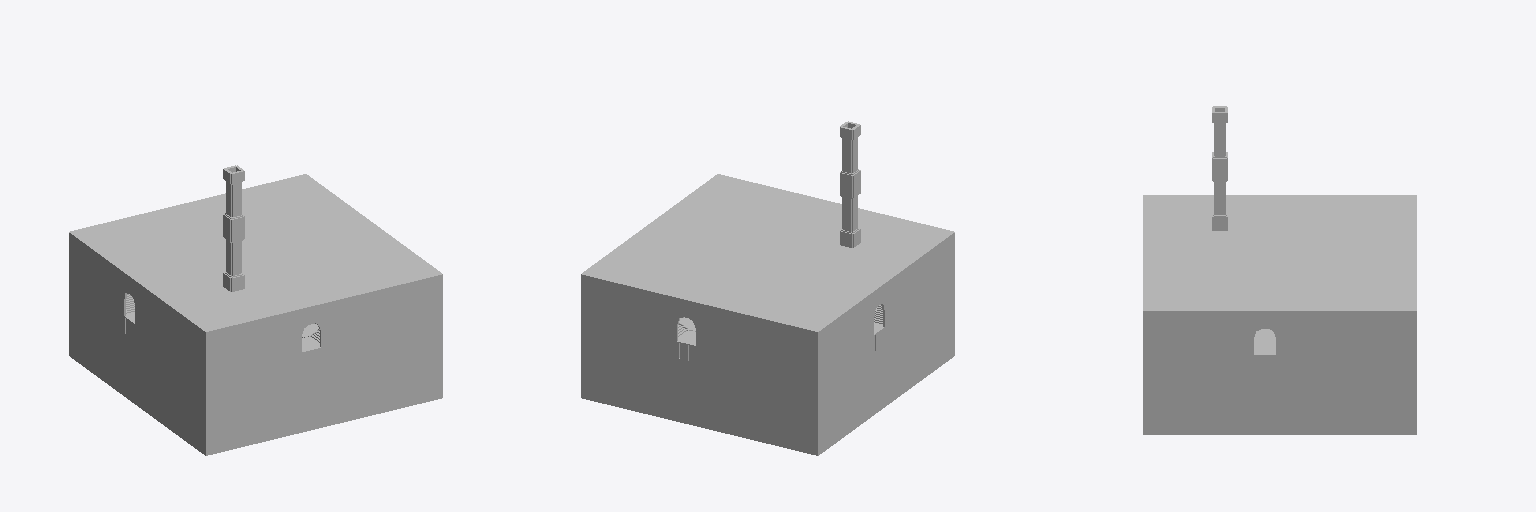
File: Power Room.obj
3 renders of one model, left to right at view 1: azimuth 30°, elevation 25°; view 2: azimuth 150°, elevation 25°; view 3: azimuth 270°, elevation 25°, orthographic.
Visible parts, largest first — view 1: object 1; view 2: object 1; view 3: object 1.
Part boxes in pixels (x1,y1,x2,y2): object 1: (69, 165, 442, 455); object 1: (581, 121, 954, 455); object 1: (1143, 106, 1416, 434).
Size of the model in its own units: 25.1 by 24.4 by 25.1.